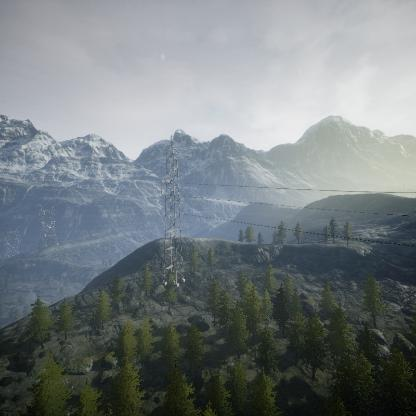tower: (156, 137, 189, 290)
